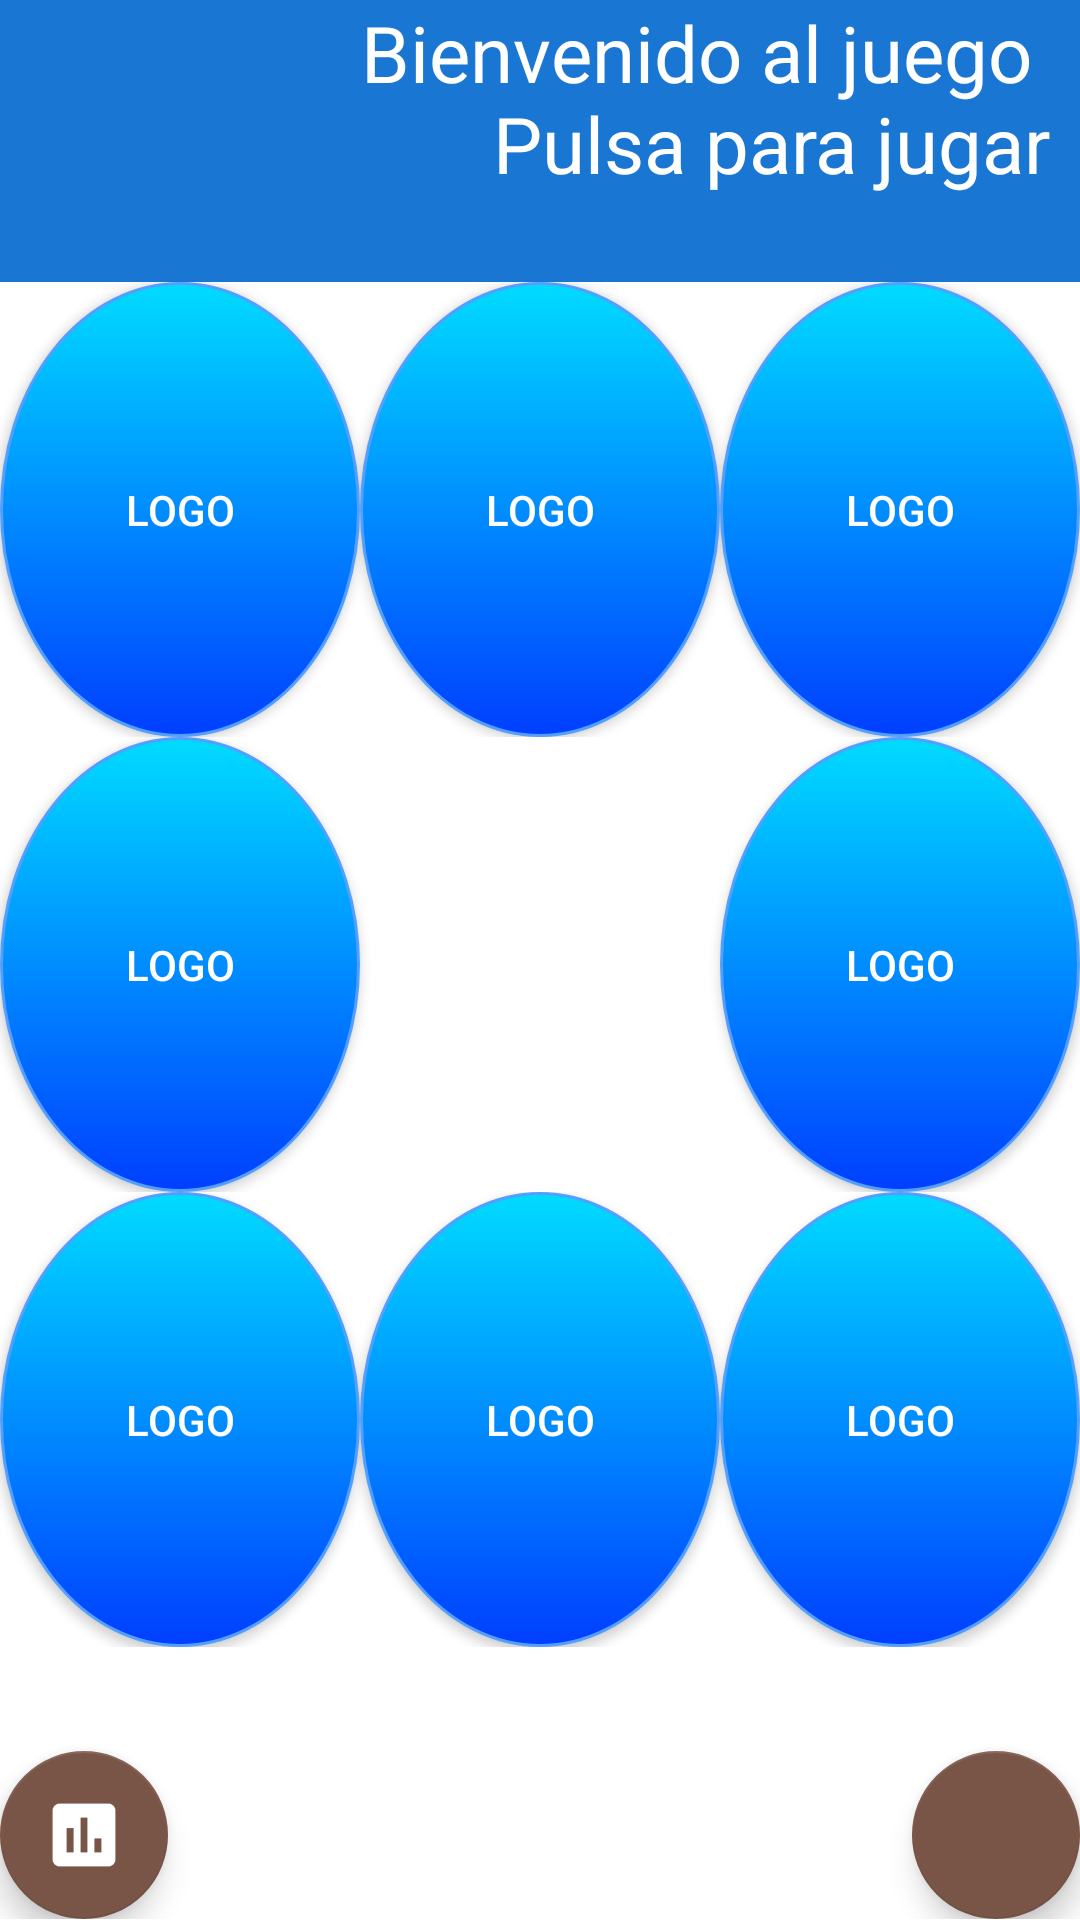

Icon bounding boxes for this 1080px×1920px phone screenshot, format (x1, y1, x2, y2):
historial: (0, 1751, 168, 1919)
